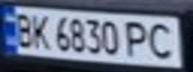0: (100, 17, 124, 56)
3: (84, 16, 103, 55)
6: (51, 14, 72, 53)
8: (66, 15, 87, 54)
B: (9, 9, 36, 48)
C: (142, 19, 181, 60)
K: (27, 11, 51, 51)
P: (121, 18, 154, 58)
